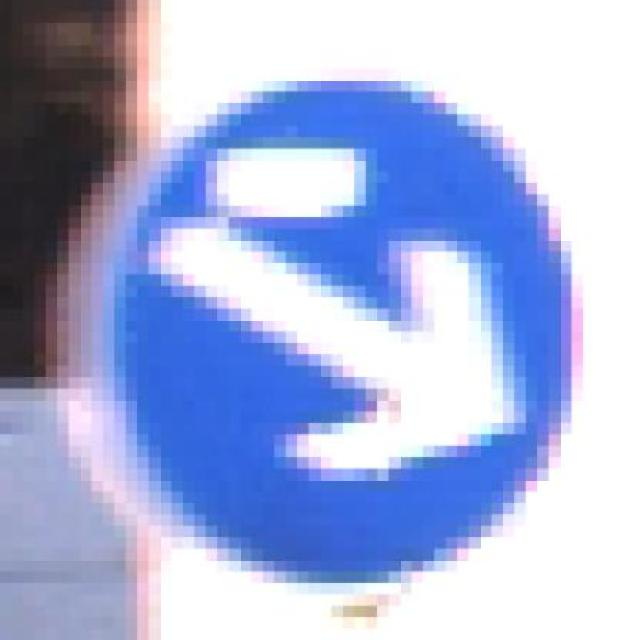Keep-Right: (68, 68, 583, 594)
